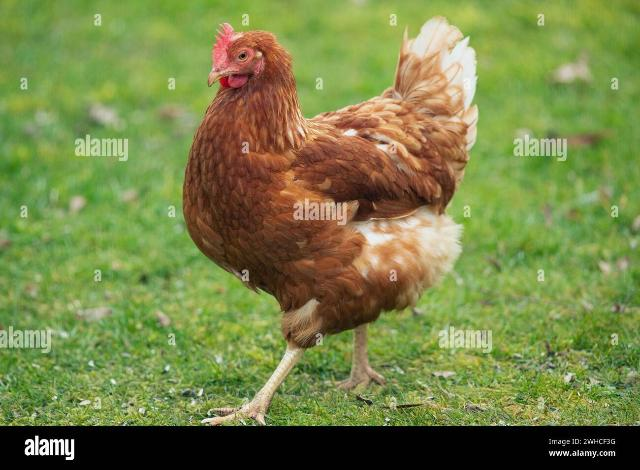Chicken: (183, 15, 479, 423)
